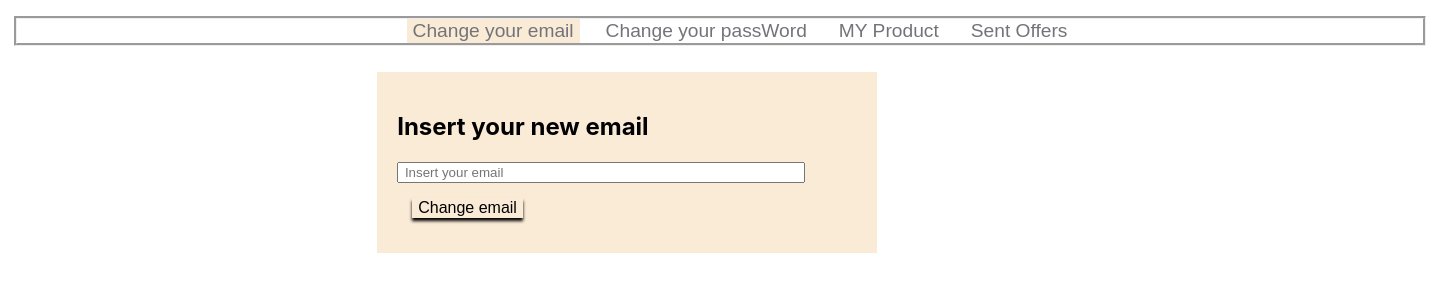
Test: navigate from change email to chang password
The image size is (1440, 306).
Expected: the heading "Insert your new email" is shown, 397,112 -> 649,141
Expected: the button "Change password" is not shown
What coordinates should you click on to do the following:
click the button "Change your passWord"
I would click on:
 (706, 31)
Its box is 600,19 -> 813,43.
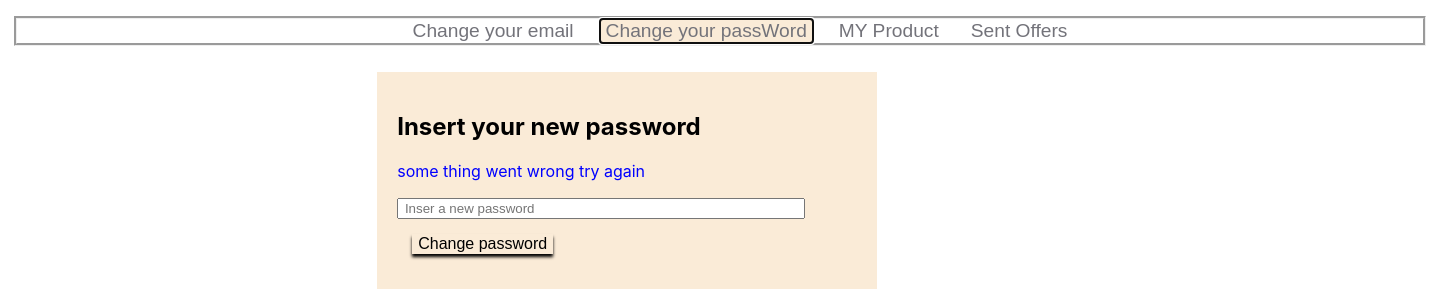
Now the button "Change password" is shown, box 412,234 -> 553,254
Now the heading "Insert your new email" is gone
